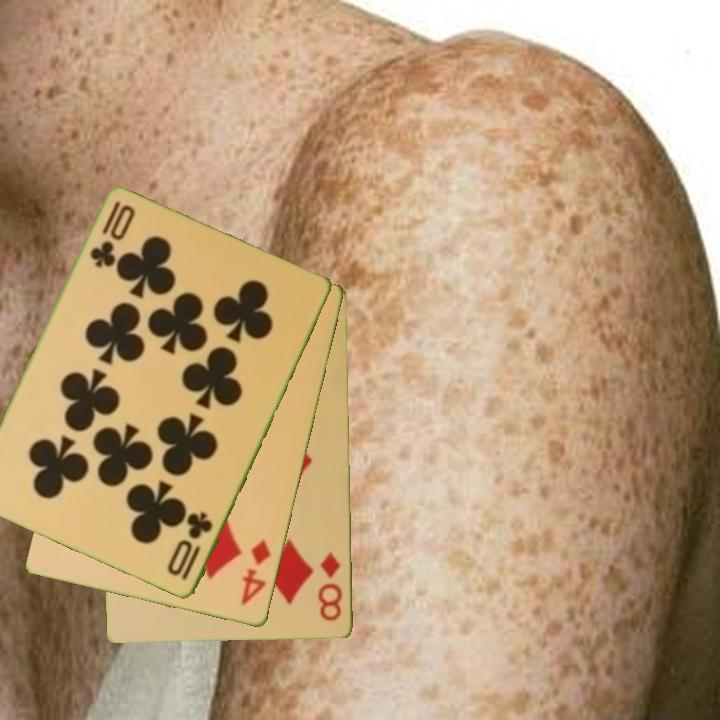10c: (164, 509, 216, 584), (86, 197, 124, 272)
4d: (237, 536, 274, 609)
8d: (315, 549, 346, 624)
